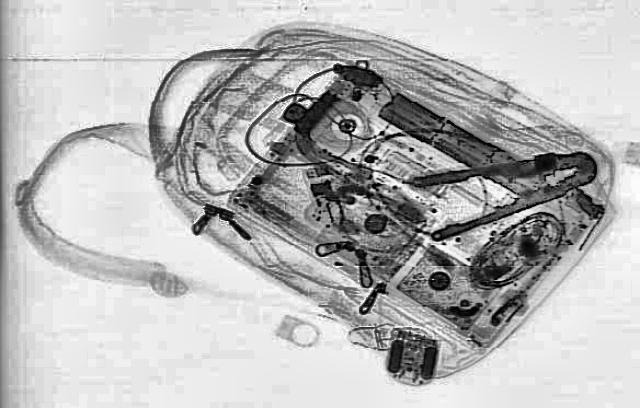Pliers: (396, 140, 618, 240)
